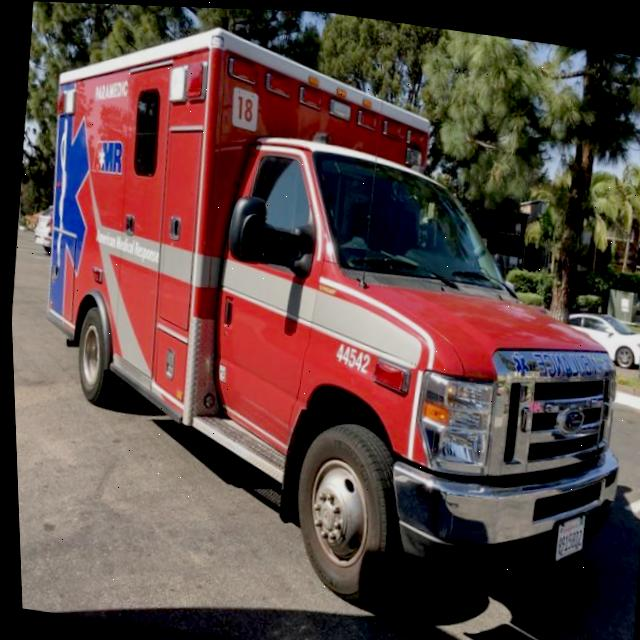emergency: (152, 18, 640, 640)
